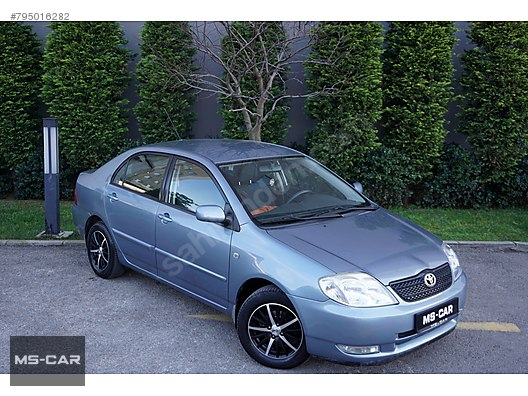car: (70, 135, 478, 371)
